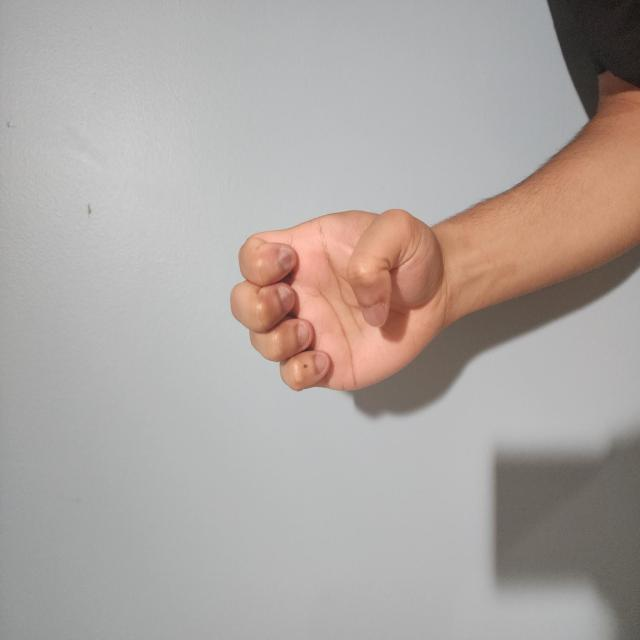E: (183, 306, 326, 612)
